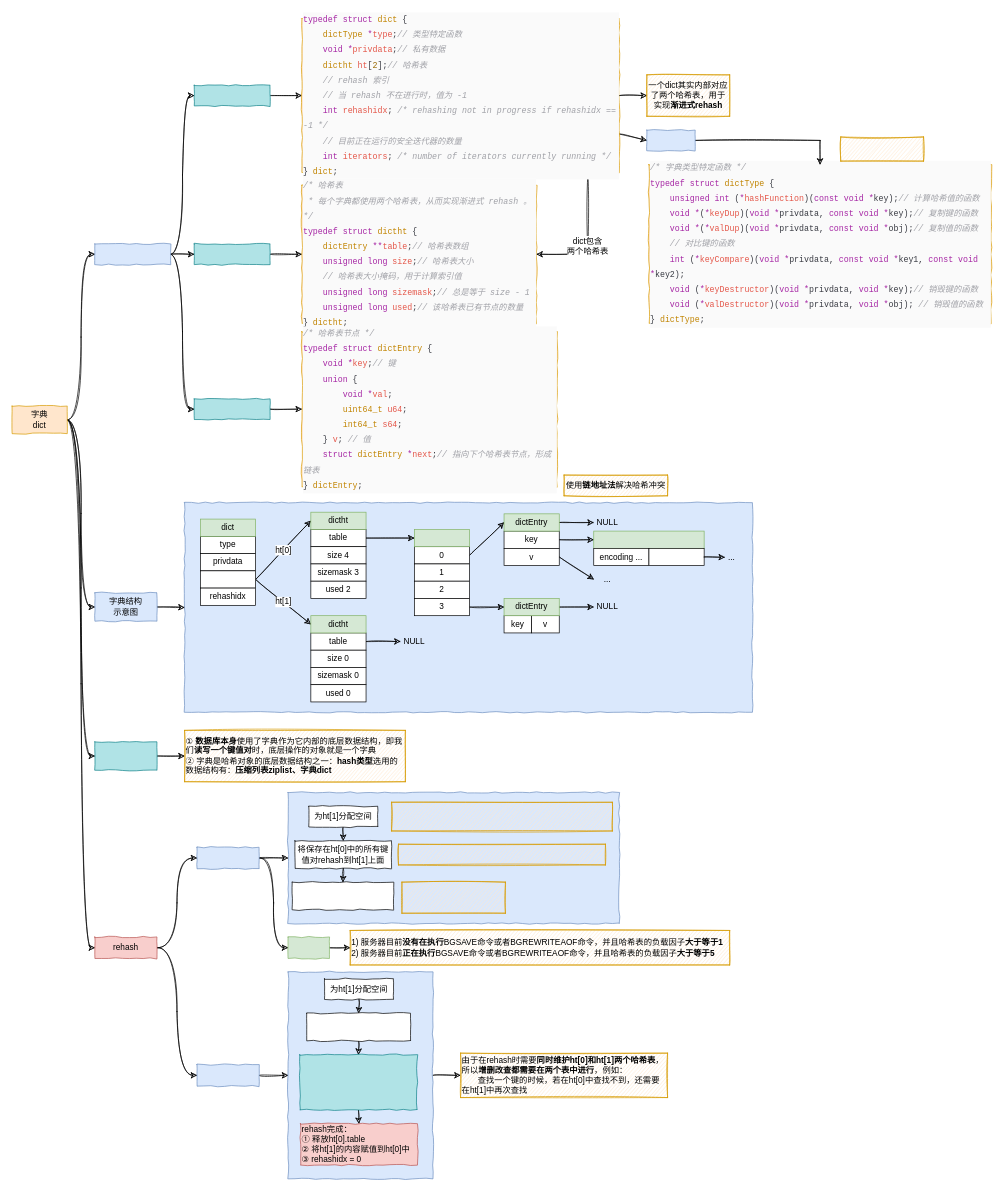
This 1003x1191 diagram has some shape labels left out. Here are the shapes that lost their labels. From the top down, the centre of each, then its label:
At point 232,95: "最外层dict结构".
At point 670,140: "type字段".
At point 882,148: "用于实现字典的多态".
At point 132,254: "相关数据结构源码".
At point 232,254: "单个哈希表dictht".
At point 232,409: "哈希表节点 Entry".
At point 442,538: "dictEntry*[4]".
At point 648,539: "redisObject".
At point 676,557: "ptr".
At point 228,579: "ht".
At point 125,755: "什么地方使用到字典数据结构?".
At point 501,816: "① 扩展操作：大小为第一个>= ht[0].used * 2 的 2 n 的空间 ② 收缩操作：大小为第一个>= ht[0].used 的 2 n 的空间".
At point 227,858: "直接rehash".
At point 501,854: "遍历ht[0]上的所有桶的所有桶元素，重新映射到ht[1]上".
At point 343,895: "释放ht[0].table 将ht[1]的内容赋值到ht[0]中".
At point 453,897: "相当于做了一个交换操作，最后清空ht[1]的内容".
At point 308,947: "时机".
At point 358,1027: "设置dict的 rehashidx 字段为0，表示rehash工作开始".
At point 227,1075: "渐进式rehash".
At point 358,1082: "在rehash期间，对字典进行增删改查时会顺带： ① 将rehashidx桶上的所有键值对rehash到ht[1]中 ② rehashidx++".
